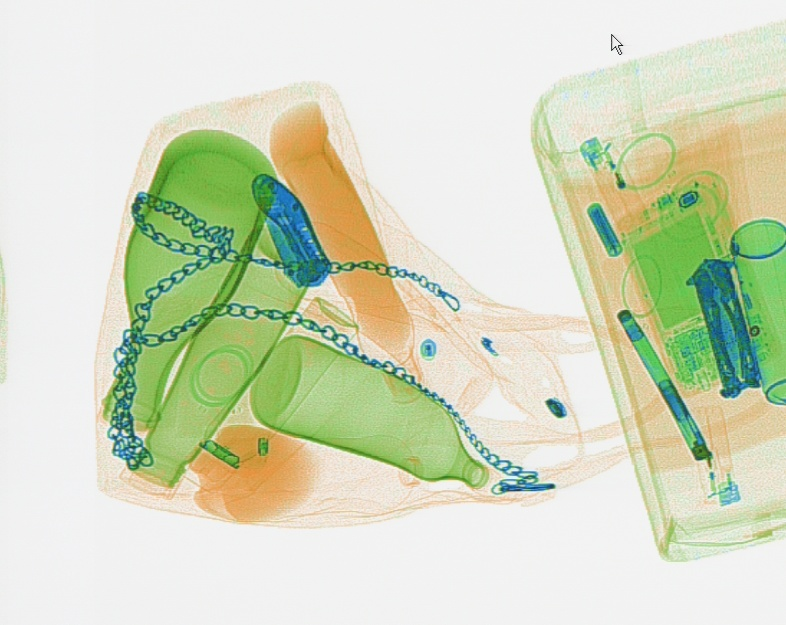knife: (686, 252, 761, 395), (247, 172, 327, 287)
lighter: (575, 129, 649, 232), (686, 399, 737, 509)
pressure: (189, 296, 352, 485), (726, 210, 782, 410)
